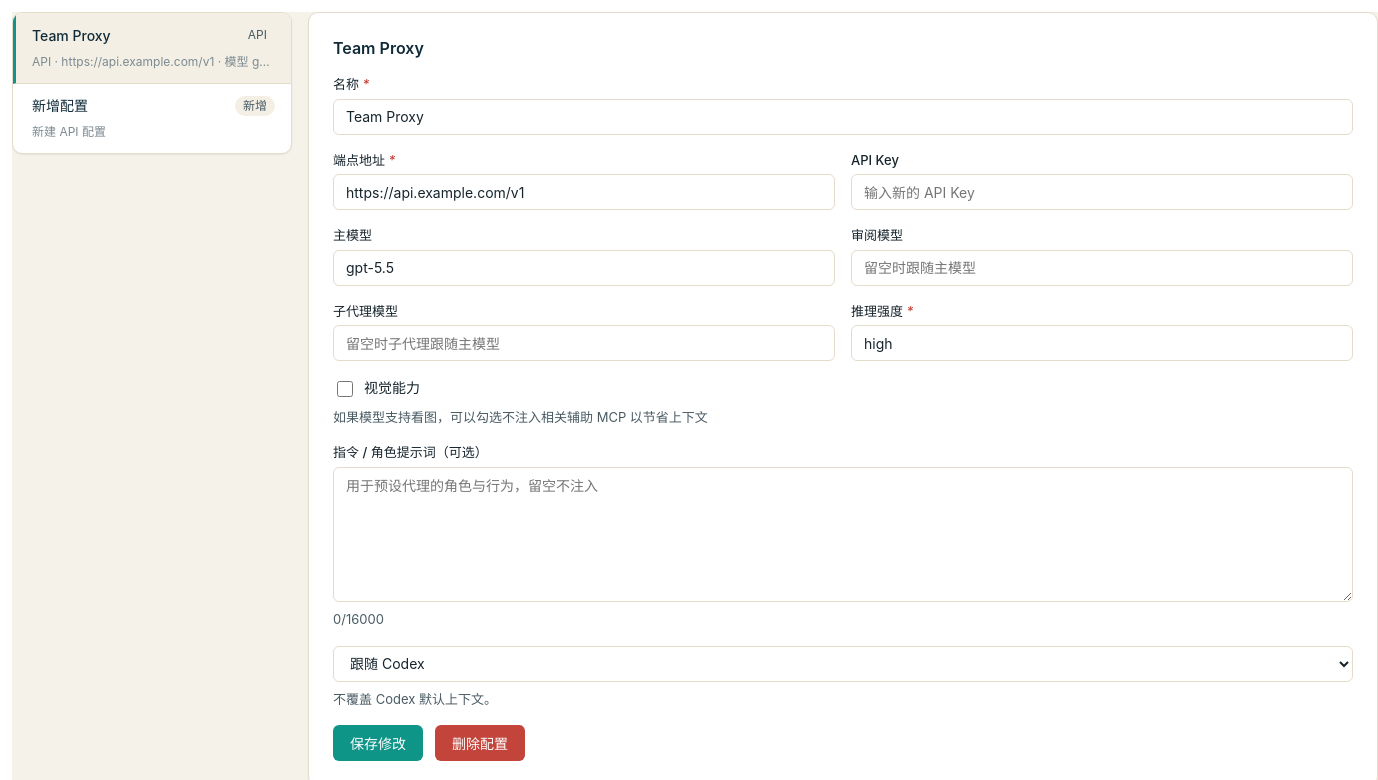
it: CodexProfileSection › replaces the previous list item when the saved profile id changes
Step 1. Click the button "Team Proxy" → point(71, 35), box [13,13,291,84]
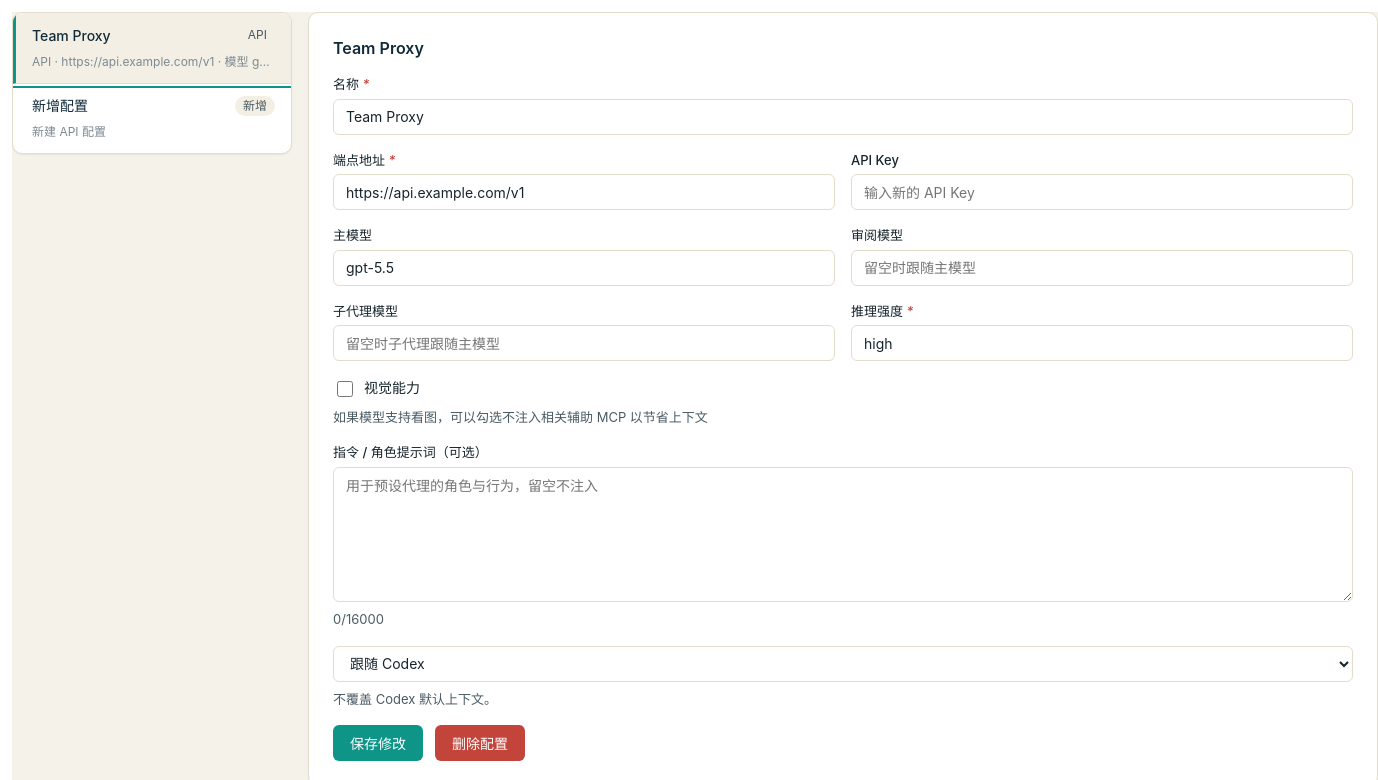
Step 2. Replace the text in the field labelled "名称 *" with "Renamed Proxy" → point(843, 117), box [333,99,1353,135]
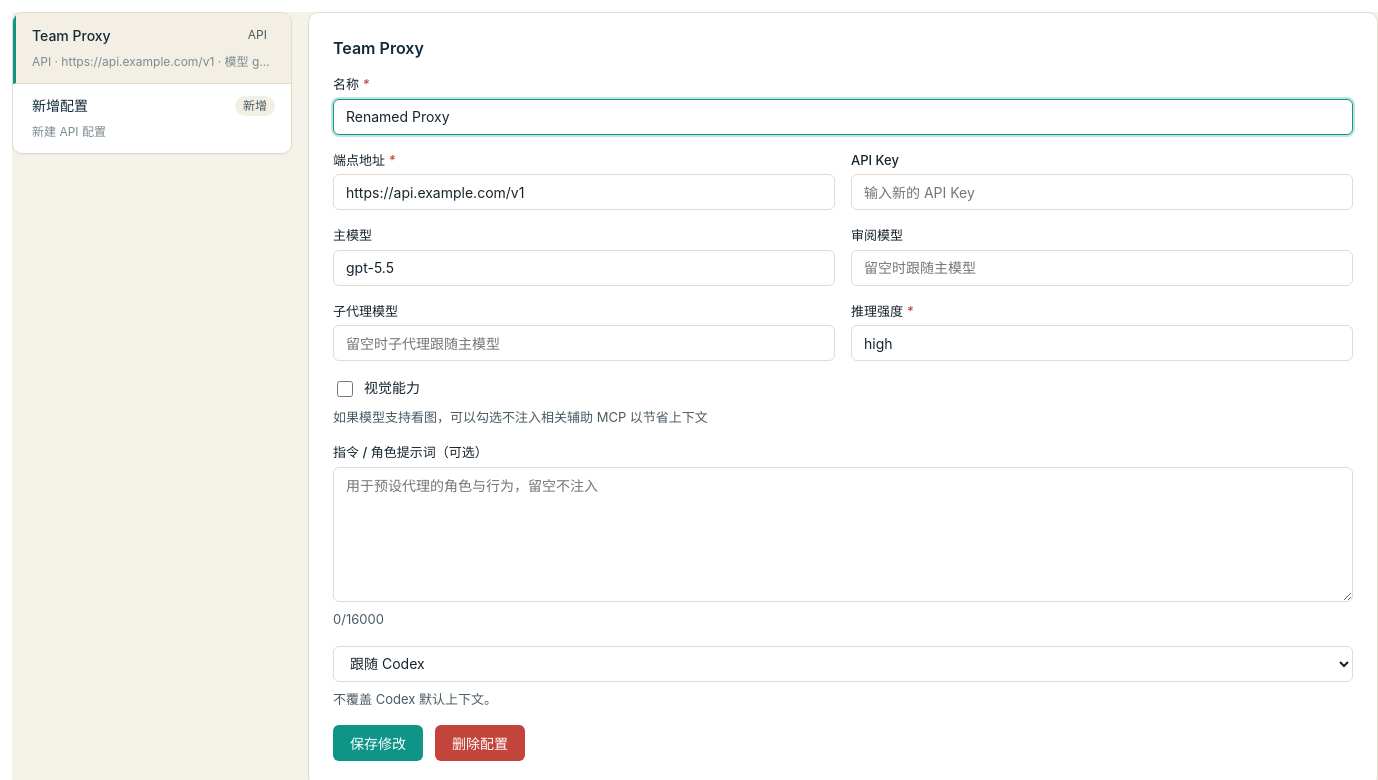
Step 3. Click the button "保存修改" → point(378, 743), box [333,725,423,761]
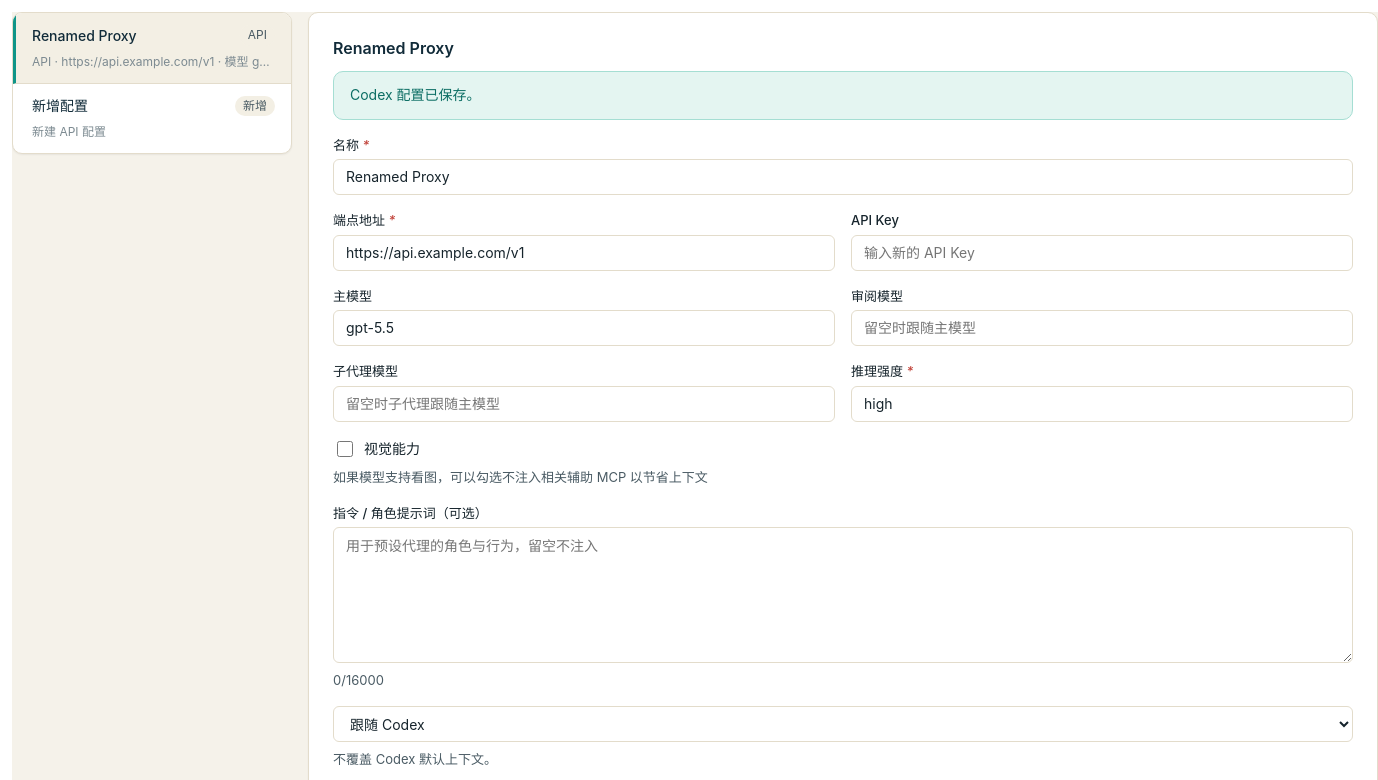
expect the button "Renamed Proxy" is shown: met, box [13,13,291,84]
expect the button "Team Proxy" is gone: met
